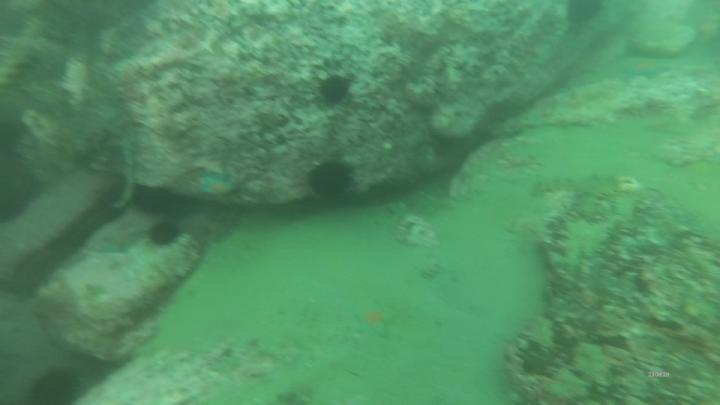echinus: (307, 154, 357, 207), (25, 364, 87, 405), (315, 73, 355, 111), (147, 221, 184, 248)
holothurian: (577, 171, 623, 218), (532, 177, 580, 191)
starfish: (352, 302, 397, 340), (623, 57, 676, 84), (198, 172, 240, 203), (100, 230, 140, 257)
